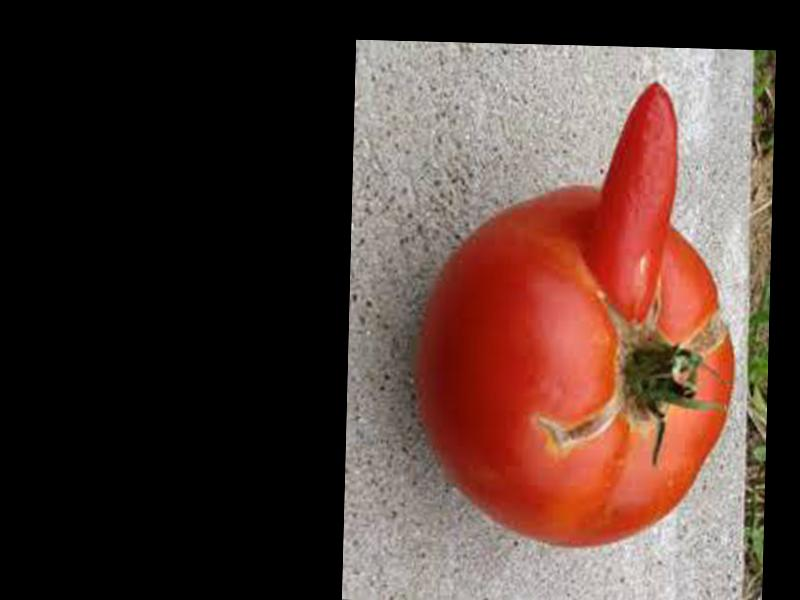Tomato: (422, 182, 739, 554)
